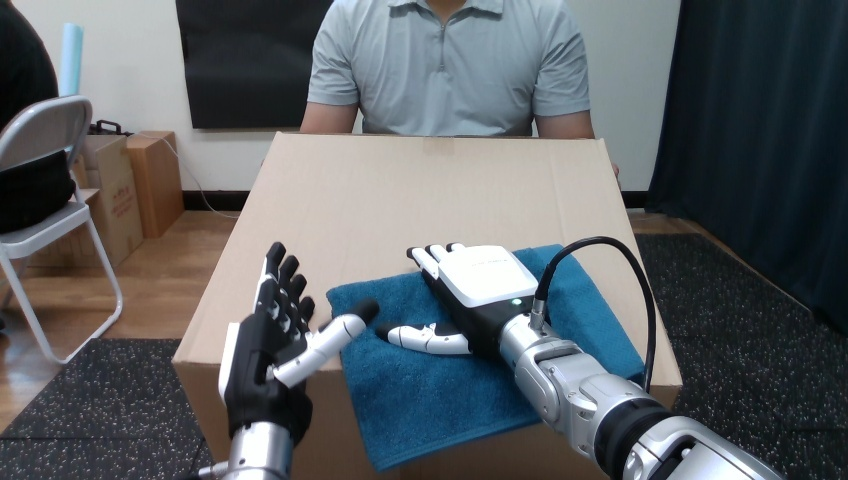left robot arm: (377, 236, 781, 479), (198, 242, 378, 479), (545, 243, 648, 387)
left robot hand: (377, 236, 781, 479), (198, 242, 378, 479), (545, 244, 648, 386)
right robot arm: (377, 236, 781, 479), (198, 242, 378, 479), (545, 243, 648, 387)
right robot hand: (377, 236, 781, 479), (198, 242, 378, 479), (545, 244, 648, 386)
